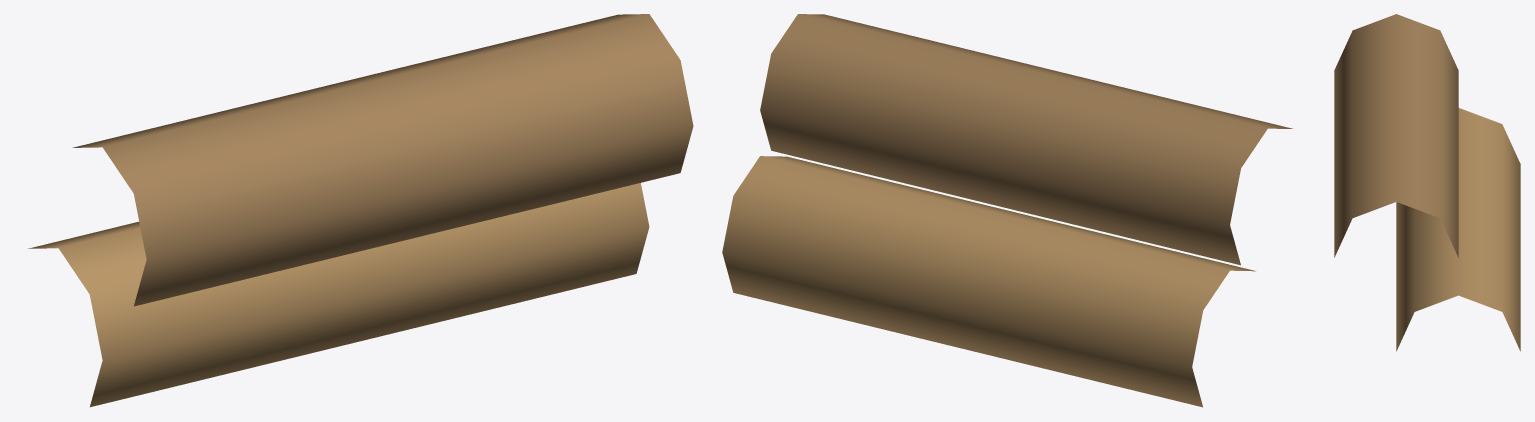
Rendered from wood.glb.
3 views of the same model, side by side, from view 1: azimuth 30°, elevation 25°; view 2: azimuth 150°, elevation 25°; view 3: azimuth 270°, elevation 25° (orthographic). The views are drawn at different scales.
Parts seen in each view (by area): view 1: wood; view 2: wood; view 3: wood.
Boxes of the visible parts, box(x1,y1,x2,y2) form: wood: box(28, 14, 693, 407); wood: box(722, 14, 1292, 407); wood: box(1334, 14, 1520, 351).
Bounding box in the file's own units: 0.86 × 0.44 × 0.36.
